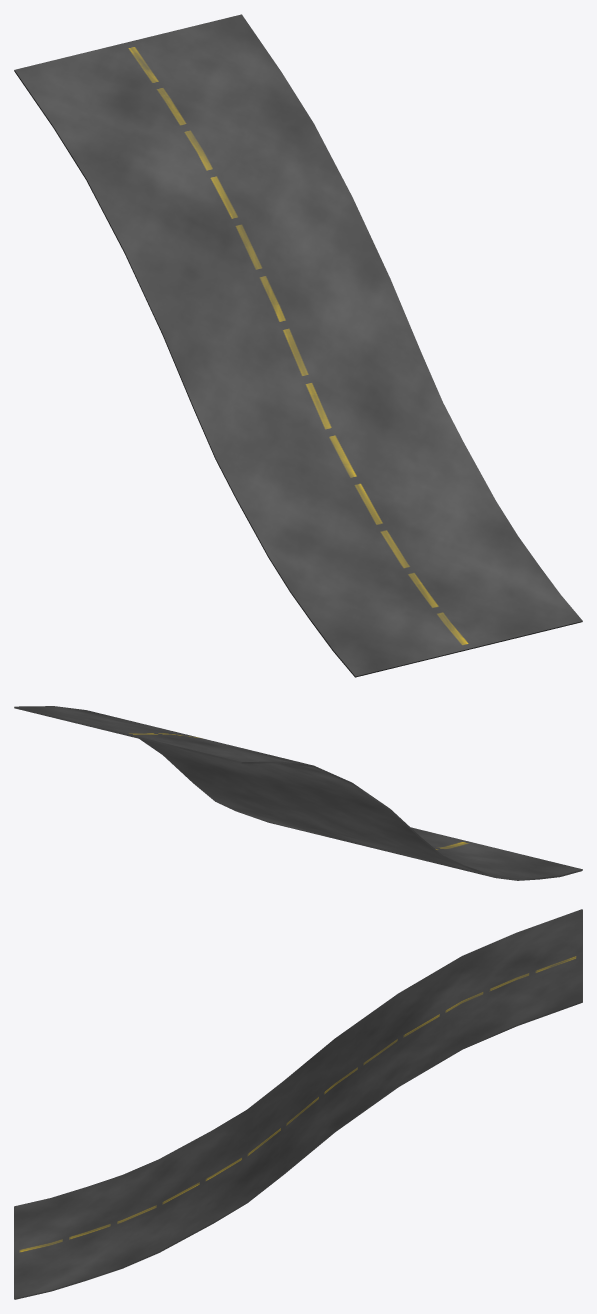
The model's file is road.FBX.
3 renders of one model, top to bottom at view 1: azimuth 30°, elevation 25°; view 2: azimuth 150°, elevation 25°; view 3: azimuth 270°, elevation 25°, orthographic. The views are drawn at different scales.
Visible parts, largest first — view 1: Box001; view 2: Box001; view 3: Box001.
Boxes of the visible parts, x1,y1,x2,y2 form: Box001: (14,14,582,677); Box001: (14,706,582,880); Box001: (14,909,582,1299).
Size of the model in its own units: 1181 by 1778 by 3073.
Materials: 1 (1 with a texture image).
